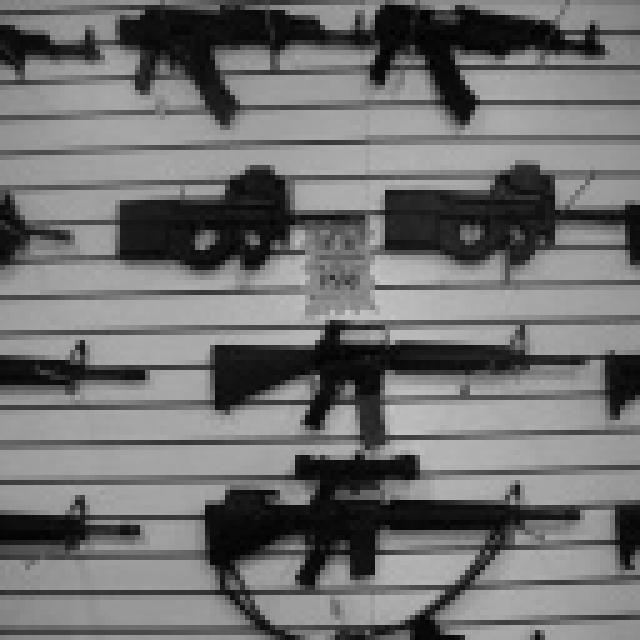Rifle: (206, 450, 593, 639), (206, 304, 597, 453), (115, 0, 375, 125), (370, 0, 620, 130), (116, 158, 367, 287), (380, 158, 640, 280), (0, 482, 150, 597), (1, 317, 167, 418), (0, 173, 87, 276), (0, 5, 105, 90), (588, 354, 640, 424), (610, 500, 640, 595)
